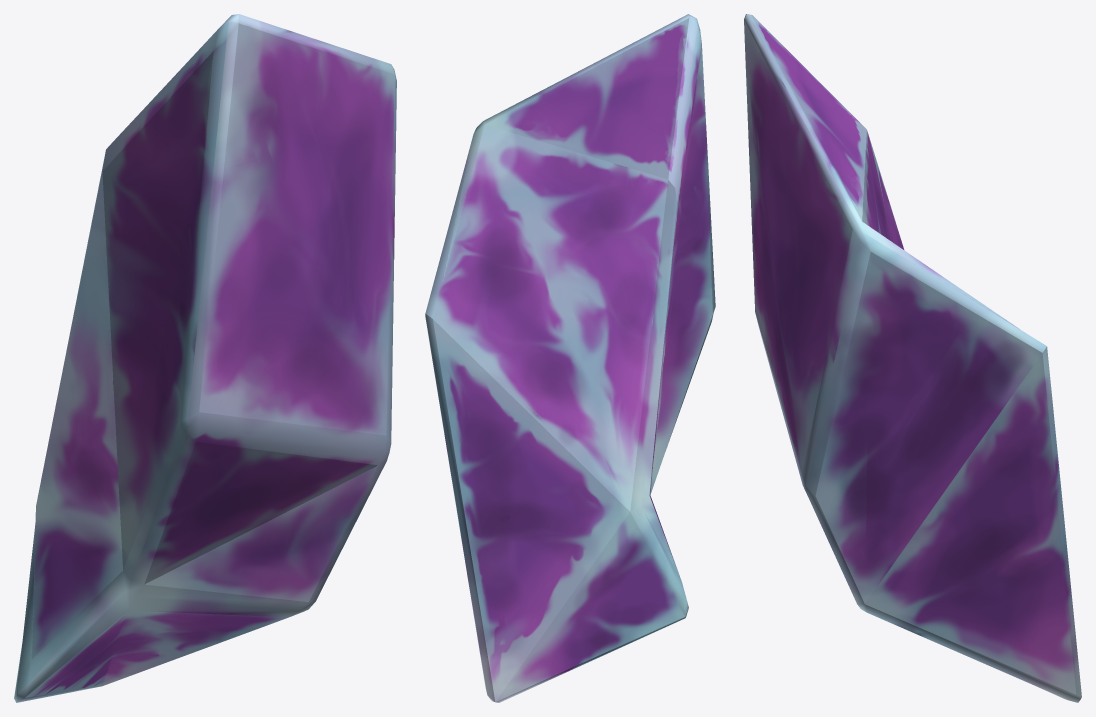
The model's file is Crystal.glb.
3 renders of one model, left to right at view 1: azimuth 30°, elevation 25°; view 2: azimuth 150°, elevation 25°; view 3: azimuth 270°, elevation 25°, orthographic. The views are drawn at different scales.
Visible parts, largest first — view 1: Cube; view 2: Cube; view 3: Cube.
Part boxes in pixels (x1,y1,x2,y2): Cube: [14, 14, 396, 702]; Cube: [425, 14, 715, 702]; Cube: [744, 14, 1081, 702].
Size of the model in its own units: 0.3809 by 0.8945 by 0.4133.
1 material, 1 textured.
